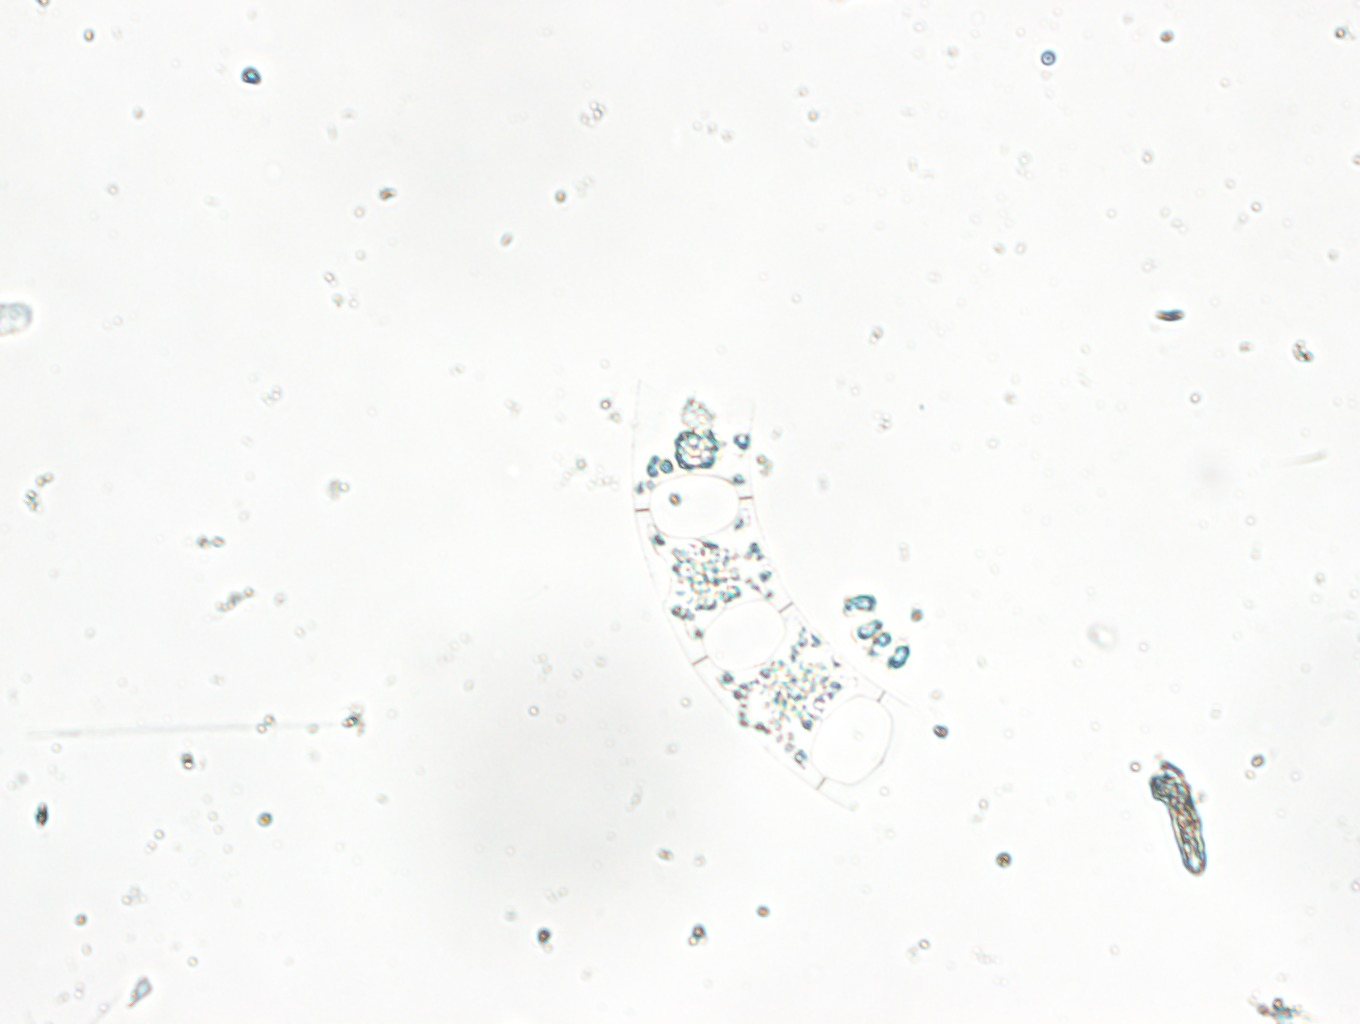eucampia: (632, 370, 917, 816)
